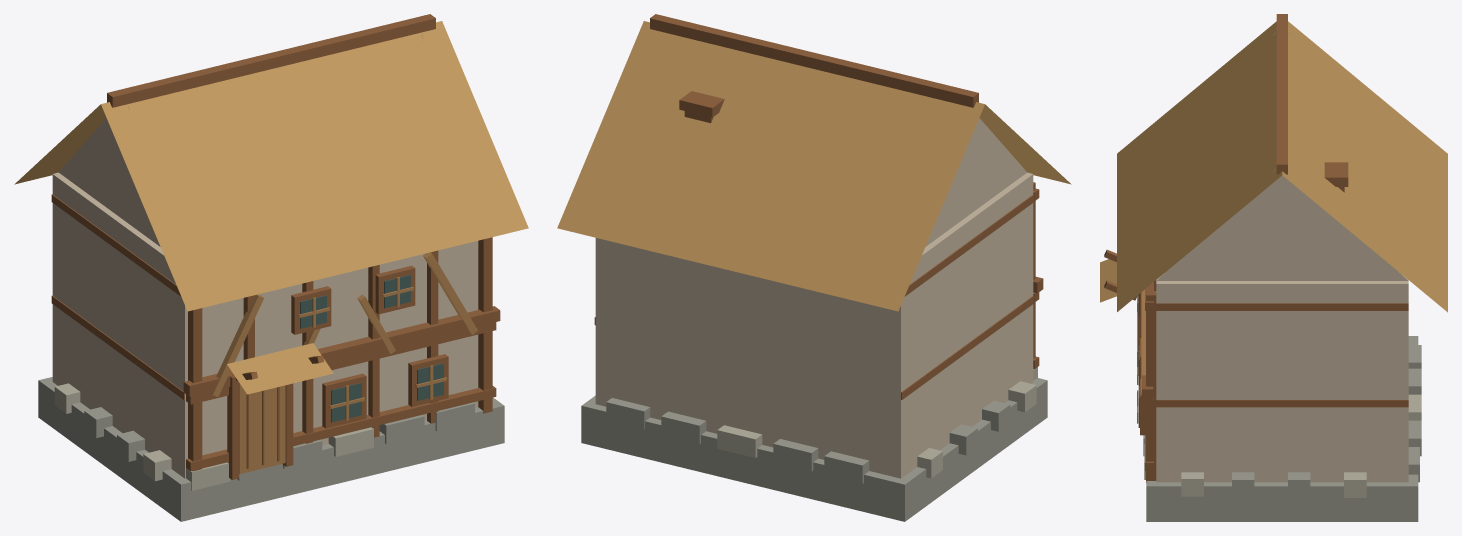
File: CASAS-PUEBLO-MODELO.glb
3 renders of one model, left to right at view 1: azimuth 30°, elevation 25°; view 2: azimuth 150°, elevation 25°; view 3: azimuth 270°, elevation 25°, orthographic. The views are drawn at different scales.
Visible parts, largest first — view 1: Techo delantero, Pared izquierda, Pared frontal, Base de piedra, Cumbrera, Fronton_Izquierdo, Puerta, Viga entre pisos, Alero entrada, Viga horizontal, Poste esquina.001, Poste esquina (+28 smaller); view 2: Techo trasero, Pared trasera, Pared izquierda, Base de piedra, Cumbrera, Fronton_Izquierdo, Techo delantero, Pared frontal, Viga lateral, Viga lateral.001, Piedra_12, Piedra_13 (+8 smaller); view 3: Pared derecha, Techo delantero, Techo trasero, Fronton_Derecho, Base de piedra, Viga lateral.002, Viga lateral.003, Cumbrera, Poste esquina.001, Piedra_07, Piedra_08, Piedra_09 (+6 smaller).
Boxes of the visible parts, <box> form: Techo delantero: <box>101,21,528,311</box>; Pared izquierda: <box>52,172,187,478</box>; Pared frontal: <box>177,241,478,478</box>; Base de piedra: <box>38,377,504,521</box>; Cumbrera: <box>107,14,435,107</box>; Fronton_Izquierdo: <box>59,106,160,246</box>; Puerta: <box>239,383,285,473</box>; Viga entre pisos: <box>183,306,500,396</box>; Alero entrada: <box>227,343,333,394</box>; Viga horizontal: <box>186,386,496,470</box>; Poste esquina.001: <box>478,237,492,413</box>; Poste esquina: <box>188,308,202,471</box>; Techo trasero: <box>557,21,984,311</box>; Pared trasera: <box>595,238,904,477</box>; Pared izquierda: <box>889,172,1033,478</box>; Base de piedra: <box>581,378,1047,521</box>; Cumbrera: <box>650,14,978,107</box>; Fronton_Izquierdo: <box>925,106,1026,246</box>; Techo delantero: <box>979,104,1071,184</box>; Pared frontal: <box>1021,175,1033,383</box>; Viga lateral: <box>901,295,1034,399</box>; Viga lateral.001: <box>904,194,1034,296</box>; Piedra_12: <box>717,425,762,457</box>; Piedra_13: <box>773,439,818,471</box>; Pared derecha: <box>1156,278,1408,482</box>; Techo delantero: <box>1117,21,1282,311</box>; Techo trasero: <box>1282,21,1447,312</box>; Fronton_Derecho: <box>1156,169,1407,280</box>; Base de piedra: <box>1146,336,1418,521</box>; Viga lateral.002: <box>1156,400,1408,407</box>; Viga lateral.003: <box>1156,303,1408,310</box>; Cumbrera: <box>1276,14,1287,174</box>; Poste esquina.001: <box>1146,291,1156,482</box>; Piedra_07: <box>1232,472,1254,497</box>; Piedra_08: <box>1288,472,1310,497</box>; Piedra_09: <box>1344,472,1366,497</box>.
Size of the model in its own units: 6.7 by 7.03 by 6.2.
